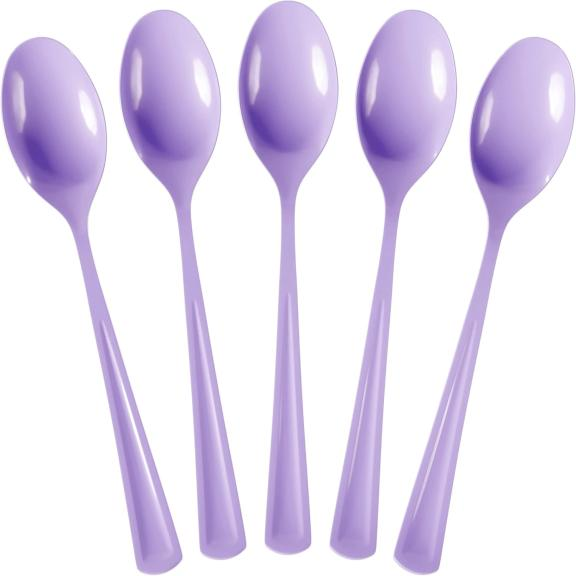Plastik: (2, 38, 181, 573), (395, 38, 574, 573), (331, 11, 456, 558), (121, 11, 245, 558), (239, 2, 337, 553)
